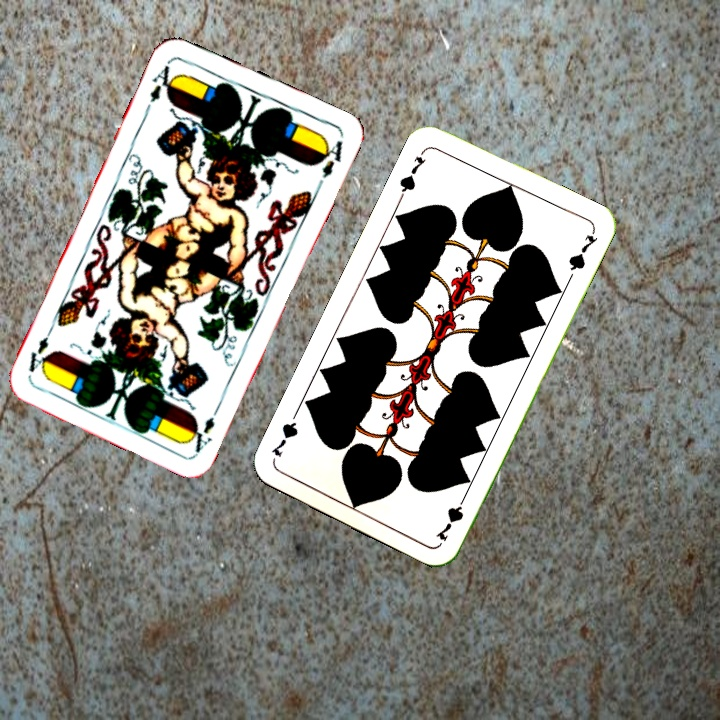EA: (185, 399, 224, 455), (145, 56, 180, 105)
G7: (432, 489, 470, 544), (395, 146, 429, 201)
